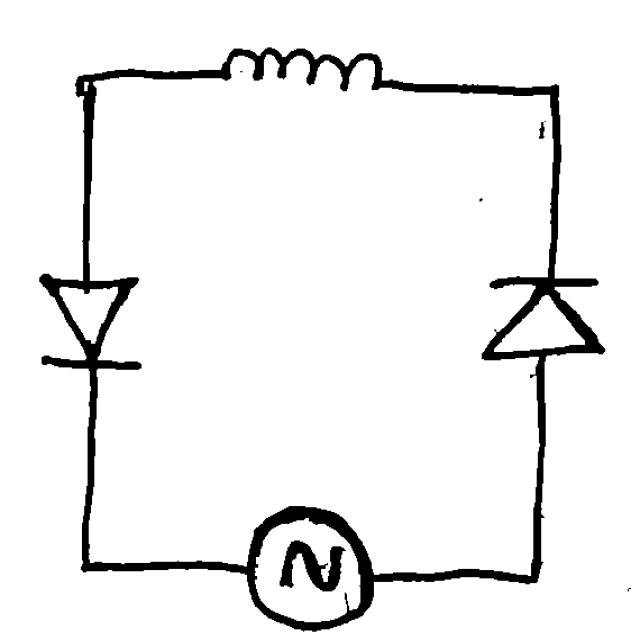ac: (232, 488, 383, 635)
diode: (29, 253, 162, 388), (465, 261, 613, 362)
inductor: (202, 41, 404, 107)
